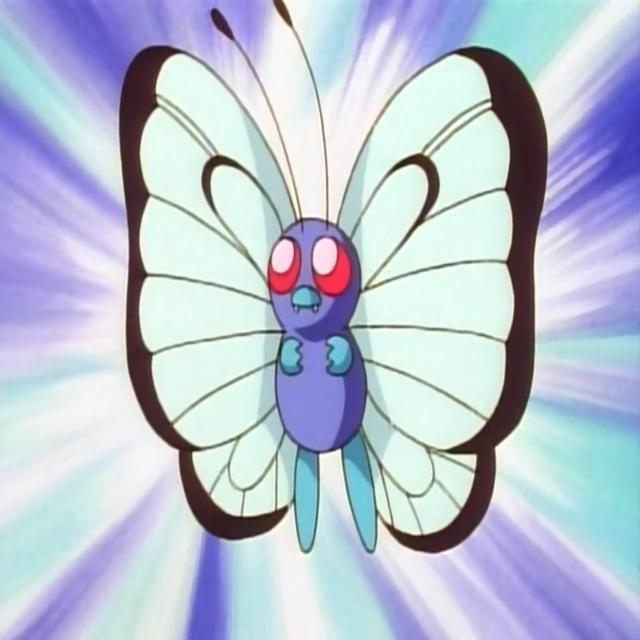Butterfree: (199, 140, 440, 544)
